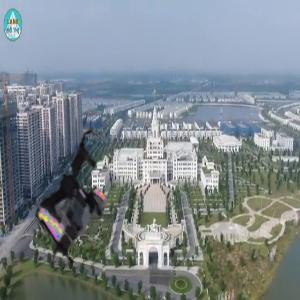drone: (16, 138, 141, 263)
